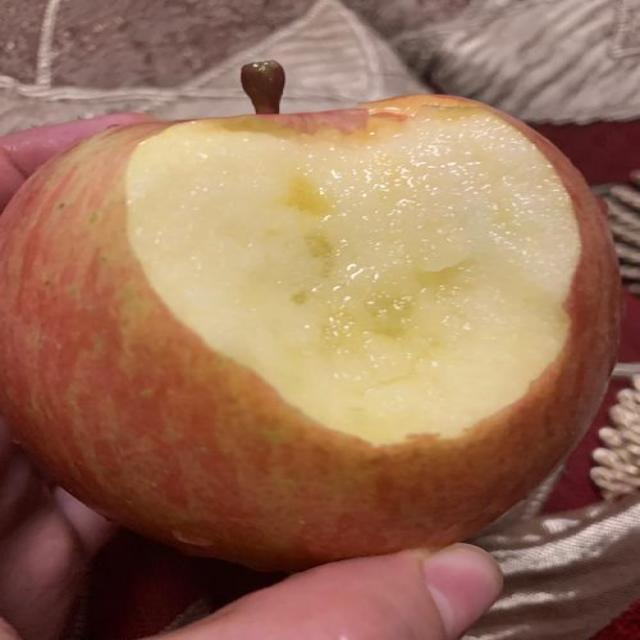Rotten: (17, 81, 625, 571)
